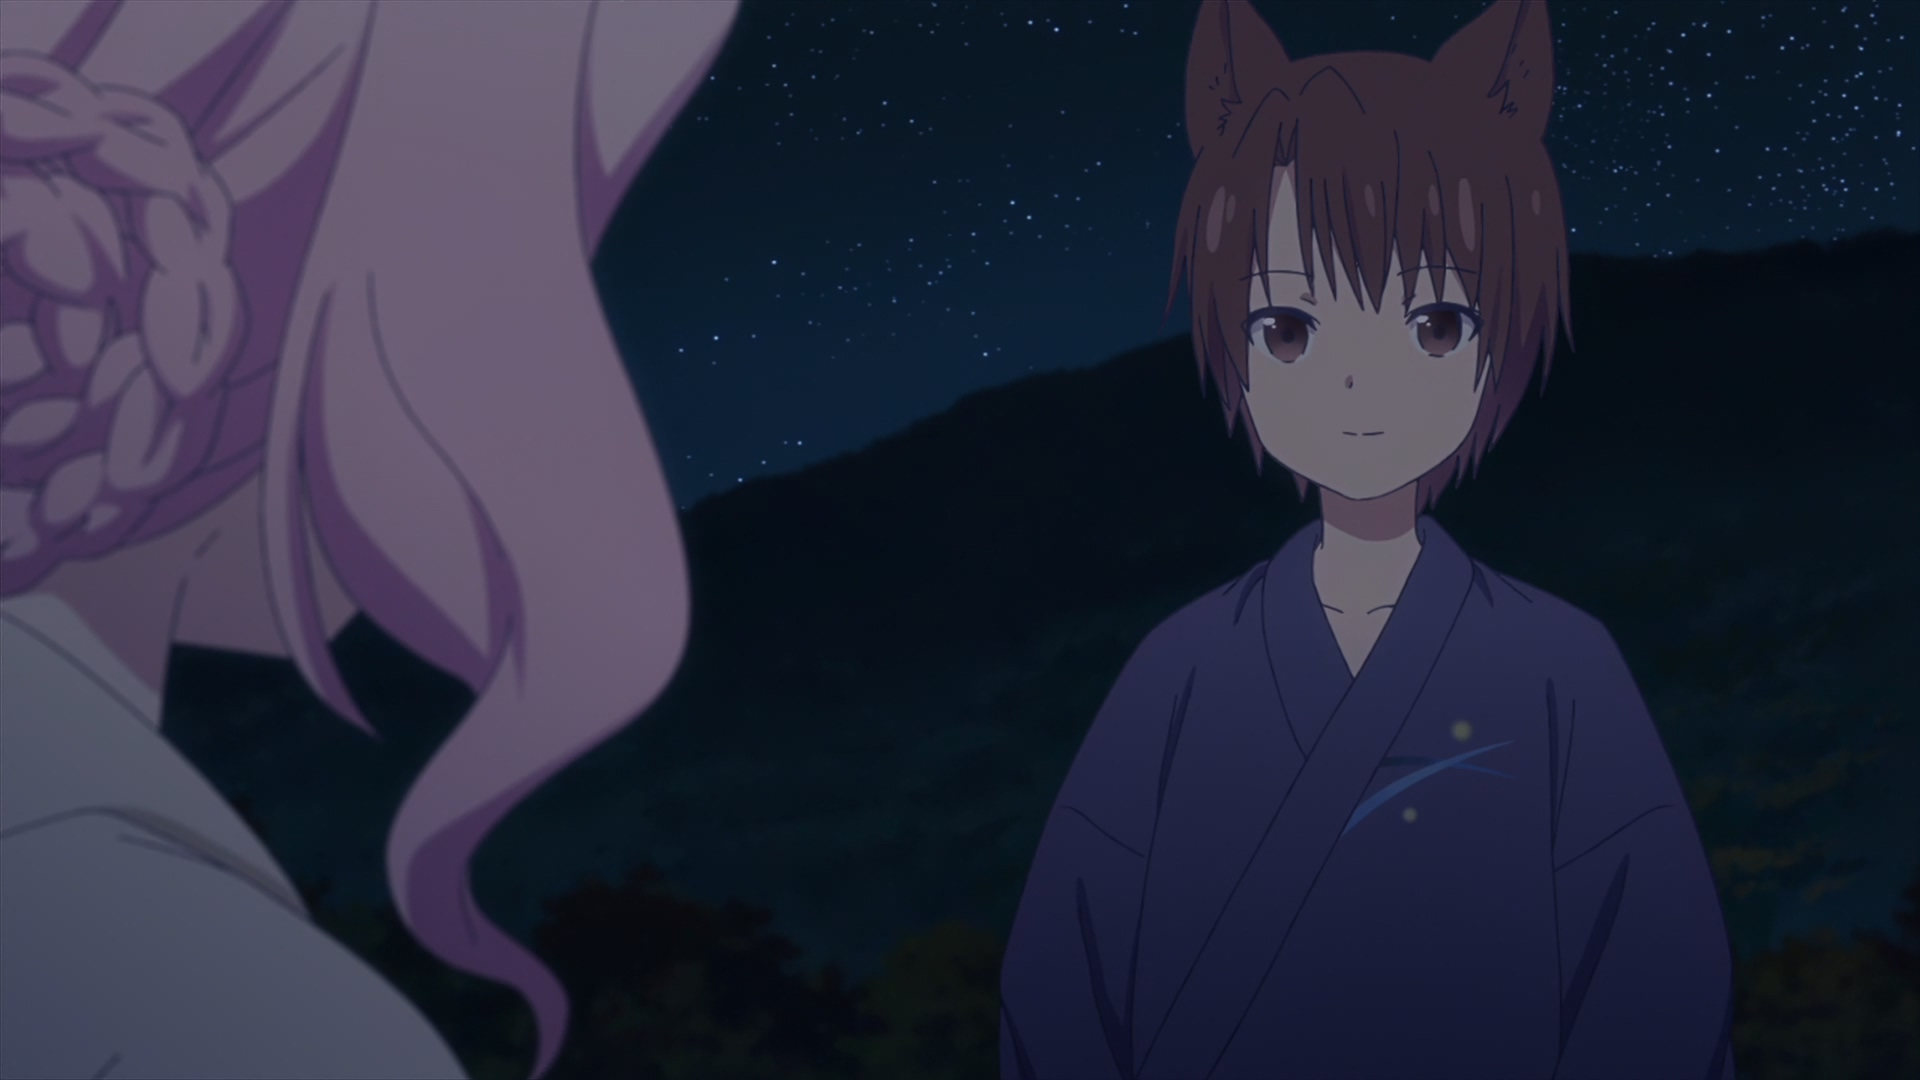枣: (1000, 1, 1737, 1080)
莲: (1, 1, 741, 1080)
